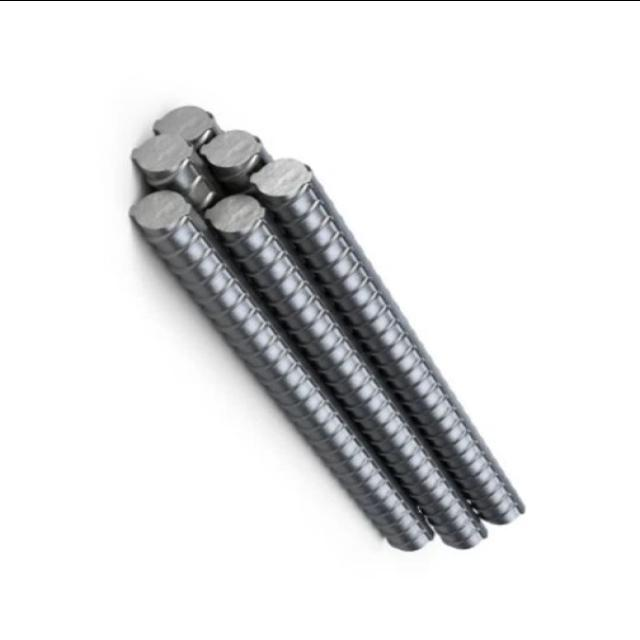Rebar: (205, 124, 271, 176), (256, 154, 319, 204), (136, 131, 197, 177), (206, 192, 265, 230), (133, 193, 193, 229), (157, 102, 213, 140)
